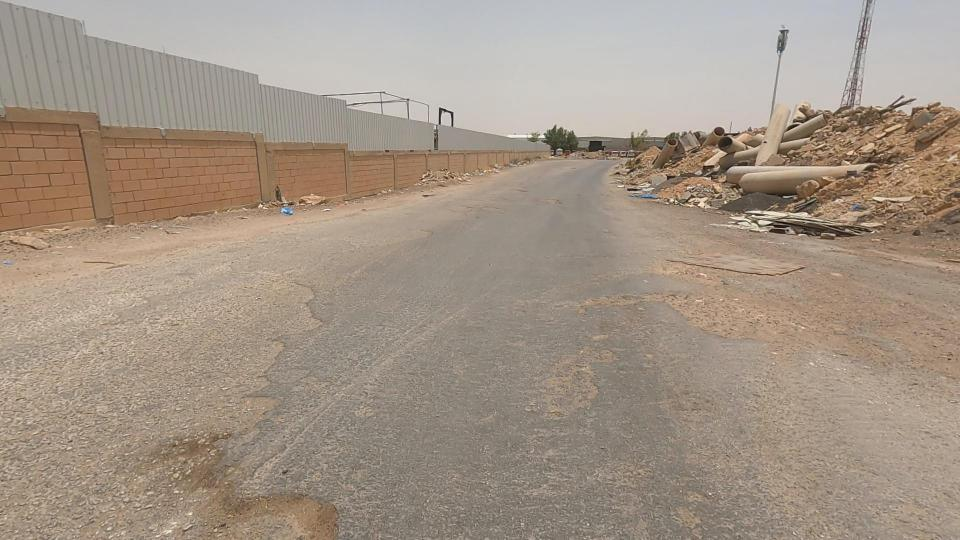GARBAGE: (593, 151, 698, 232), (264, 156, 359, 241), (719, 183, 830, 252), (0, 206, 97, 282), (245, 175, 329, 246), (666, 166, 754, 229), (411, 151, 506, 207), (814, 142, 892, 209), (824, 188, 884, 235)
